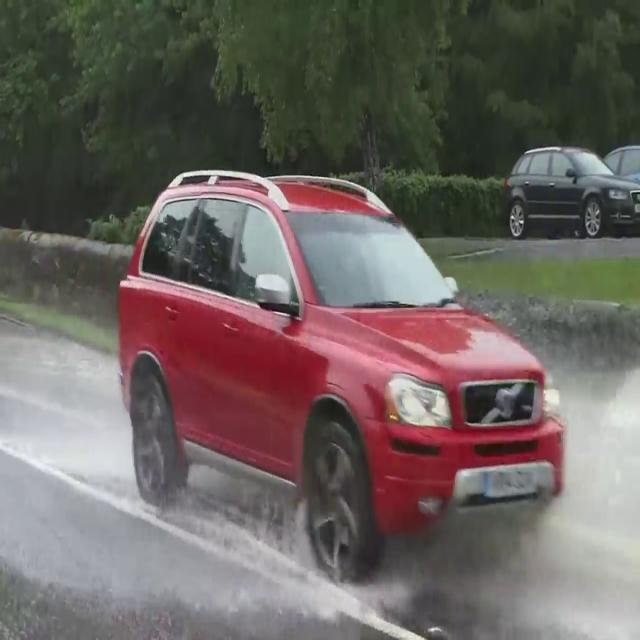license-plate-annotation: (476, 466, 542, 499)
